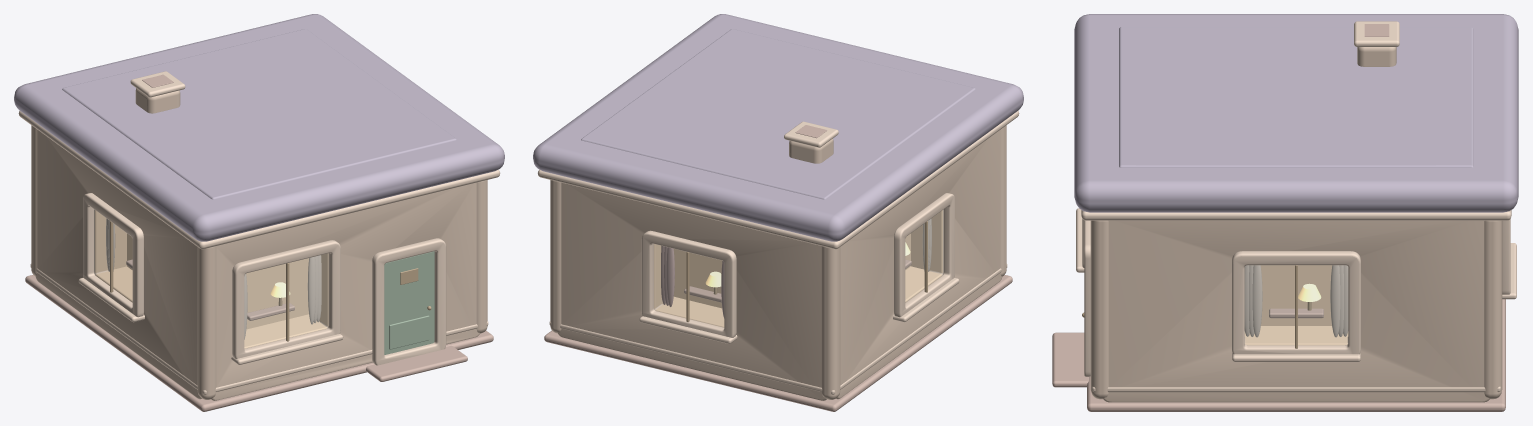
Rendered from ivory.glb.
The picture shows the model from 3 angles, left to right: view 1: azimuth 30°, elevation 25°; view 2: azimuth 150°, elevation 25°; view 3: azimuth 270°, elevation 25°; orthographic projection. The views are drawn at different scales.
Visible parts, largest first — view 1: NW92 detached ivory NW92_lilac, NW92 detached ivory NW92_ivory, NW92 detached ivory NW92_trim, NW92 detached ivory room59_glass_sage, NW92 detached ivory NW92_room, NW92 detached ivory NW92_stone, NW92 detached ivory NW92_door, NW92 detached ivory NW92_curtain, NW92 detached ivory NW92_brass; view 2: NW92 detached ivory NW92_lilac, NW92 detached ivory NW92_ivory, NW92 detached ivory NW92_trim, NW92 detached ivory room59_glass_sage, NW92 detached ivory NW92_room, NW92 detached ivory NW92_stone, NW92 detached ivory NW92_curtainRose, NW92 detached ivory NW92_brass; view 3: NW92 detached ivory NW92_lilac, NW92 detached ivory NW92_ivory, NW92 detached ivory NW92_trim, NW92 detached ivory room59_glass_sage, NW92 detached ivory NW92_stone, NW92 detached ivory NW92_room, NW92 detached ivory NW92_curtain.
Part boxes in pixels (x1,y1,x2,y2): NW92 detached ivory NW92_lilac: (14,14,504,241); NW92 detached ivory NW92_ivory: (31,88,487,400); NW92 detached ivory NW92_trim: (18,71,500,394); NW92 detached ivory room59_glass_sage: (94,210,327,347); NW92 detached ivory NW92_room: (95,210,328,348); NW92 detached ivory NW92_stone: (25,74,493,411); NW92 detached ivory NW92_door: (384,251,434,354); NW92 detached ivory NW92_curtain: (106,218,321,339); NW92 detached ivory NW92_brass: (110,221,431,341); NW92 detached ivory NW92_lilac: (533,14,1023,241); NW92 detached ivory NW92_ivory: (550,125,1006,400); NW92 detached ivory NW92_trim: (537,111,1019,394); NW92 detached ivory room59_glass_sage: (654,210,943,326); NW92 detached ivory NW92_room: (654,210,942,327); NW92 detached ivory NW92_stone: (544,125,1012,411); NW92 detached ivory NW92_curtainRose: (661,245,724,318); NW92 detached ivory NW92_brass: (686,221,927,321); NW92 detached ivory NW92_lilac: (1074,14,1518,212); NW92 detached ivory NW92_ivory: (1090,47,1502,402); NW92 detached ivory NW92_trim: (1076,21,1516,392); NW92 detached ivory room59_glass_sage: (1245,266,1347,344); NW92 detached ivory NW92_stone: (1052,24,1505,411); NW92 detached ivory NW92_room: (1244,265,1348,345); NW92 detached ivory NW92_curtain: (1244,265,1348,337).
Size of the model in its own units: 9 by 6.16 by 9.97.
